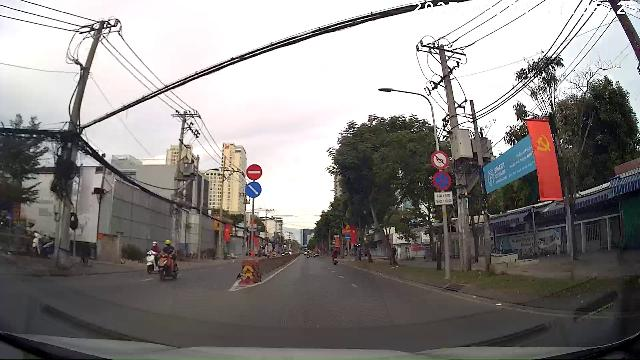102-cam-di-nguoc-chieu: (246, 164, 262, 180)
128-cam-su-dung-coi: (430, 150, 450, 170)
130-cam-dung-va-do-xe: (432, 170, 452, 190)
302a-huong-phai-di-vong-chuong-ngai-vat-1: (245, 182, 261, 198)
